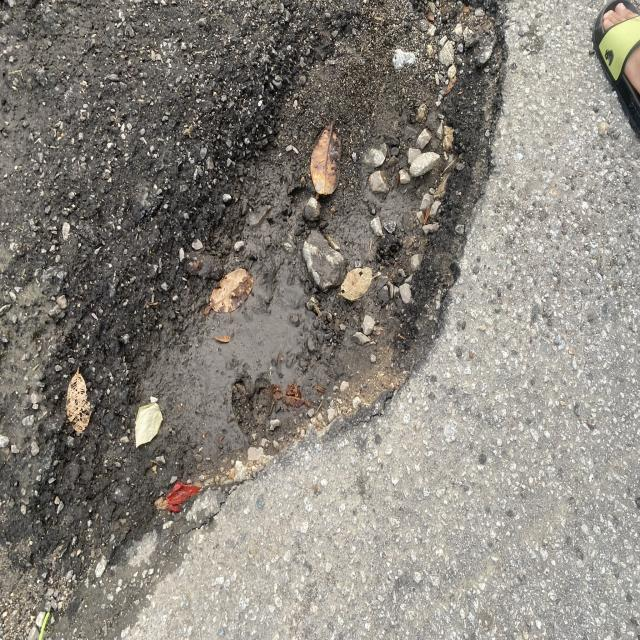pothole: (130, 8, 544, 516)
